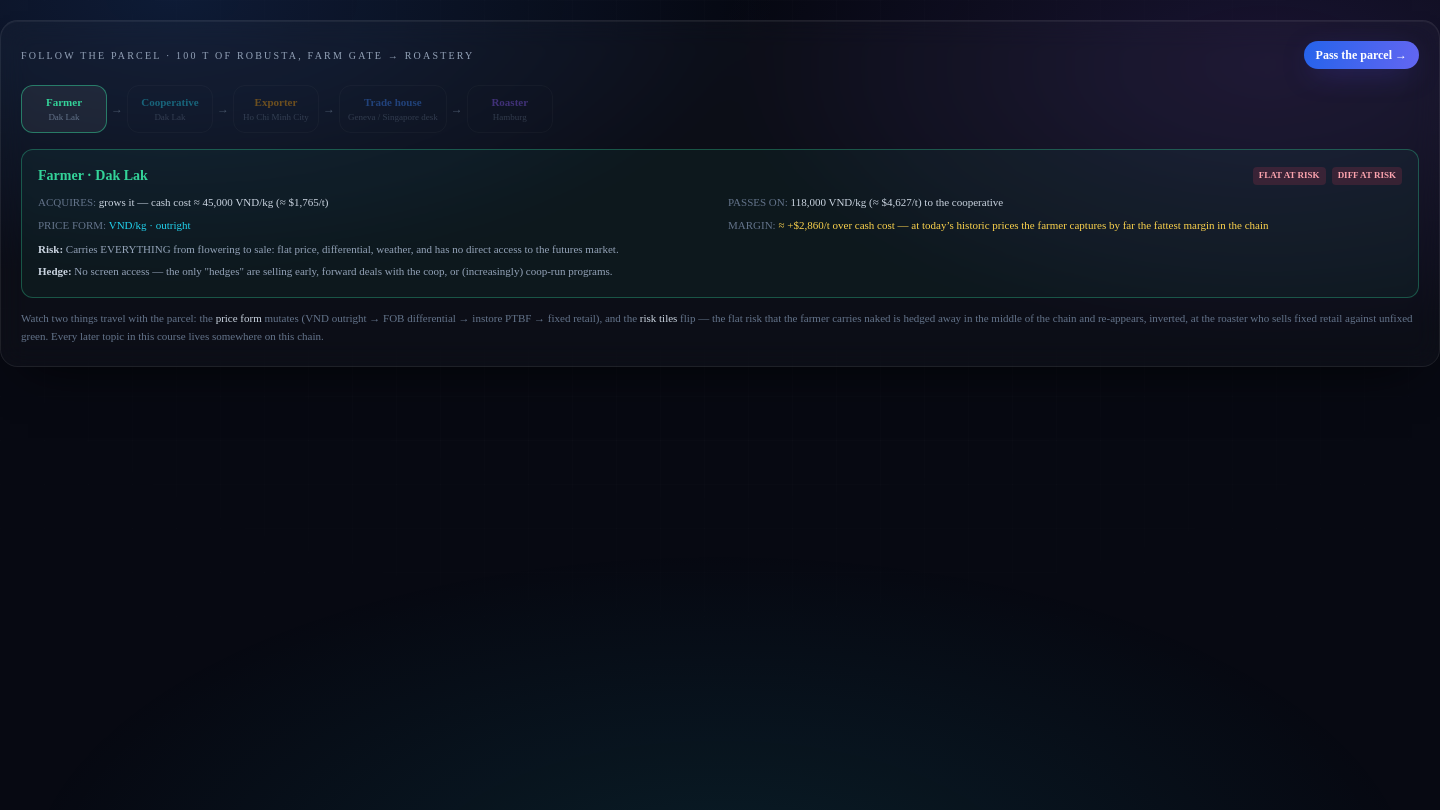
ParcelJourney: the exporter carries FX risk — a weaker dollar flips the margin
The image size is (1440, 810).
Click the button "Pass the parcel →": (1361, 55) left=1304, top=41, right=1419, bottom=69
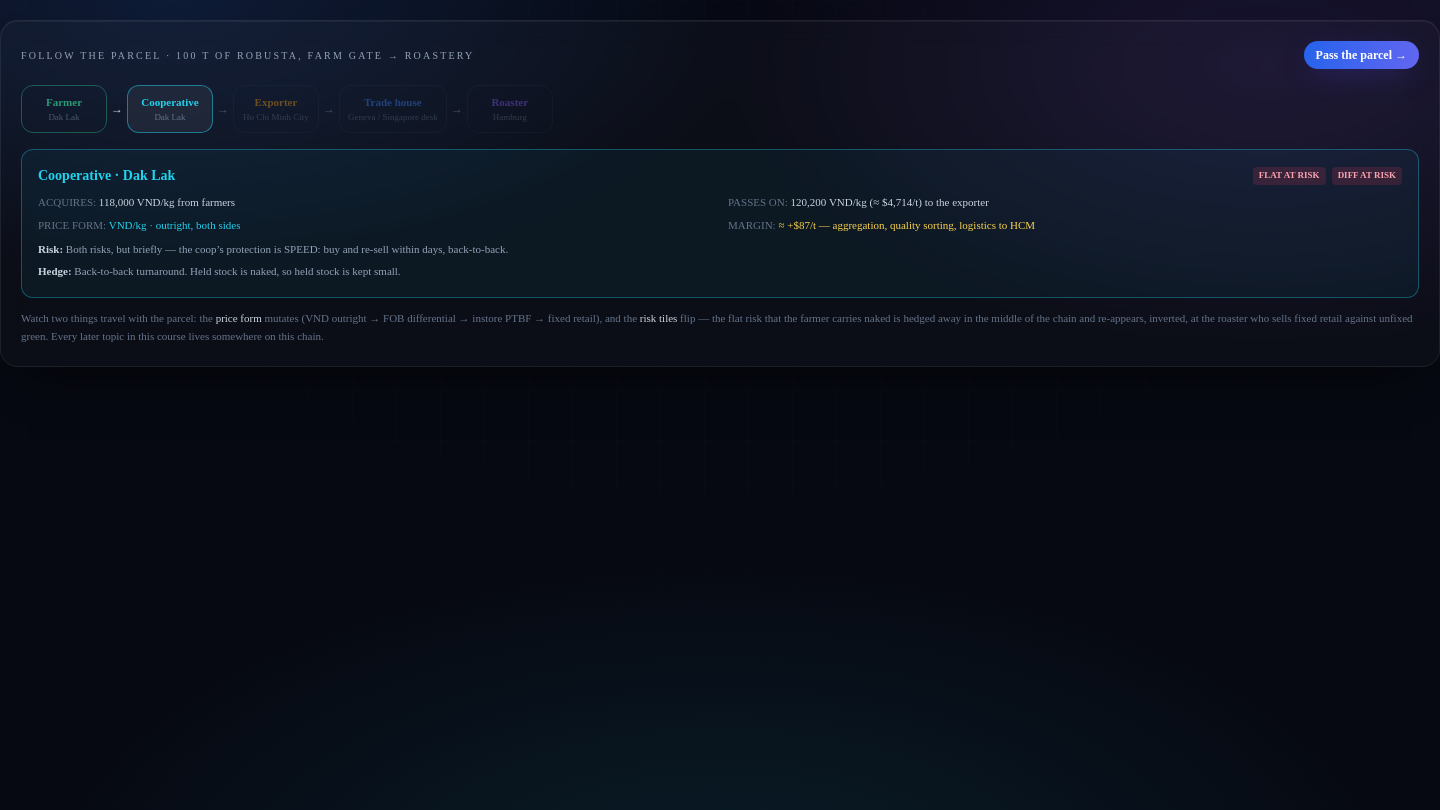
Click the button "Pass the parcel →": (1361, 55) left=1304, top=41, right=1419, bottom=69
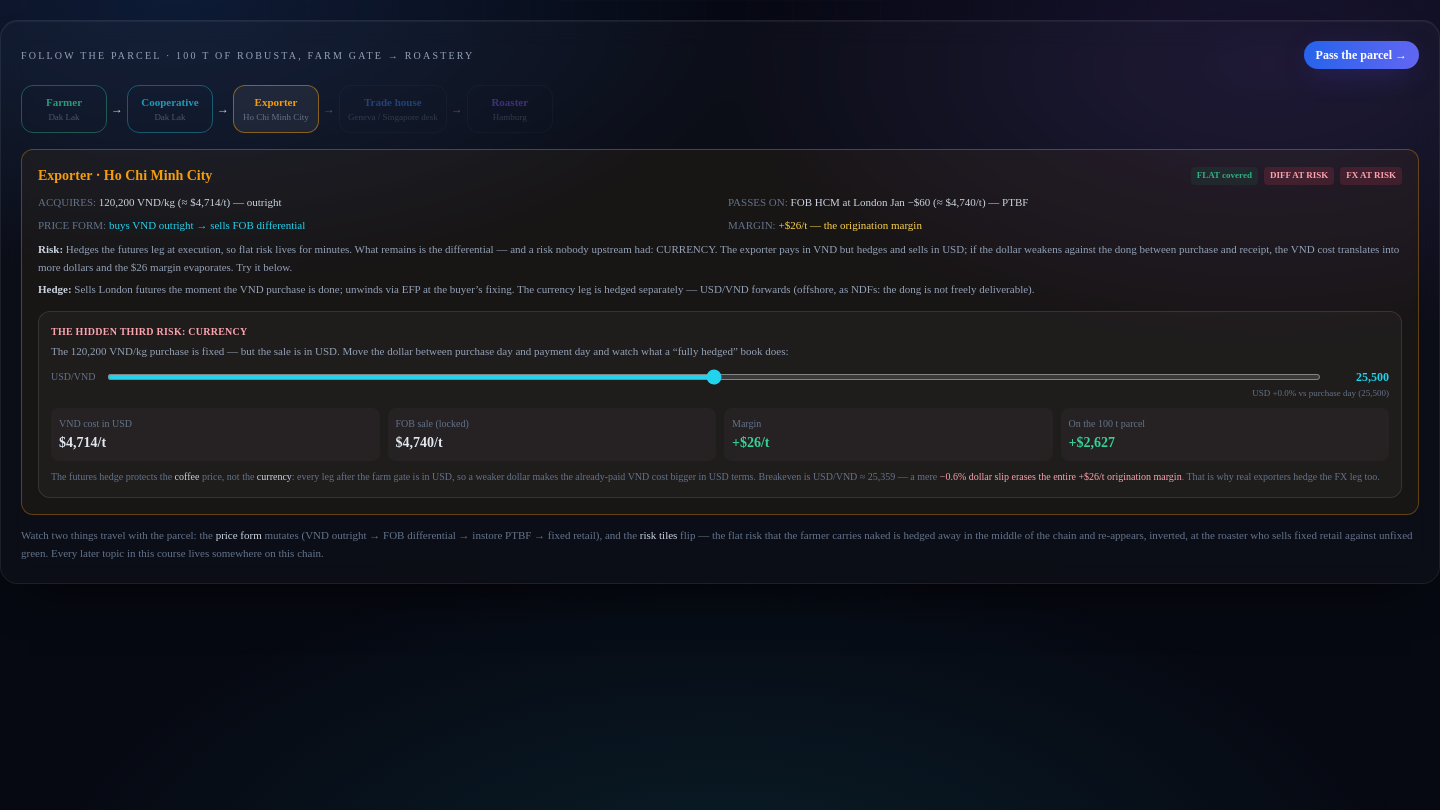
Result: the text "FX AT RISK" is shown at left=1340, top=167, right=1402, bottom=185
Result: the text "+$26/t" is shown at left=778, top=218, right=922, bottom=230
Set the slider named "USD/VND exchange rate" to "25000": (382, 376) left=108, top=374, right=1321, bottom=380
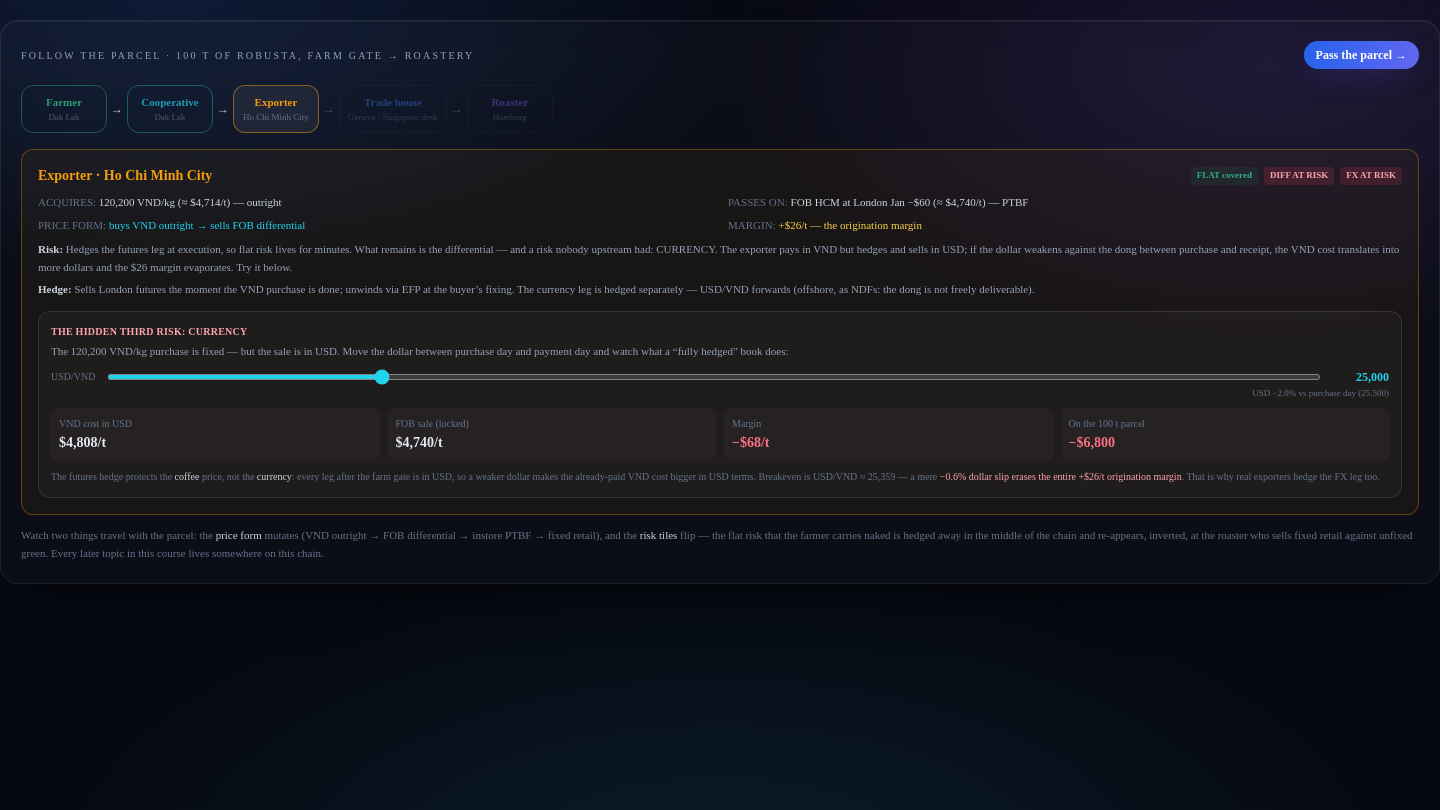
Result: the text "−$68/t" is shown at left=732, top=435, right=770, bottom=450
Result: the text "−$6,800" is shown at left=1068, top=435, right=1115, bottom=450
